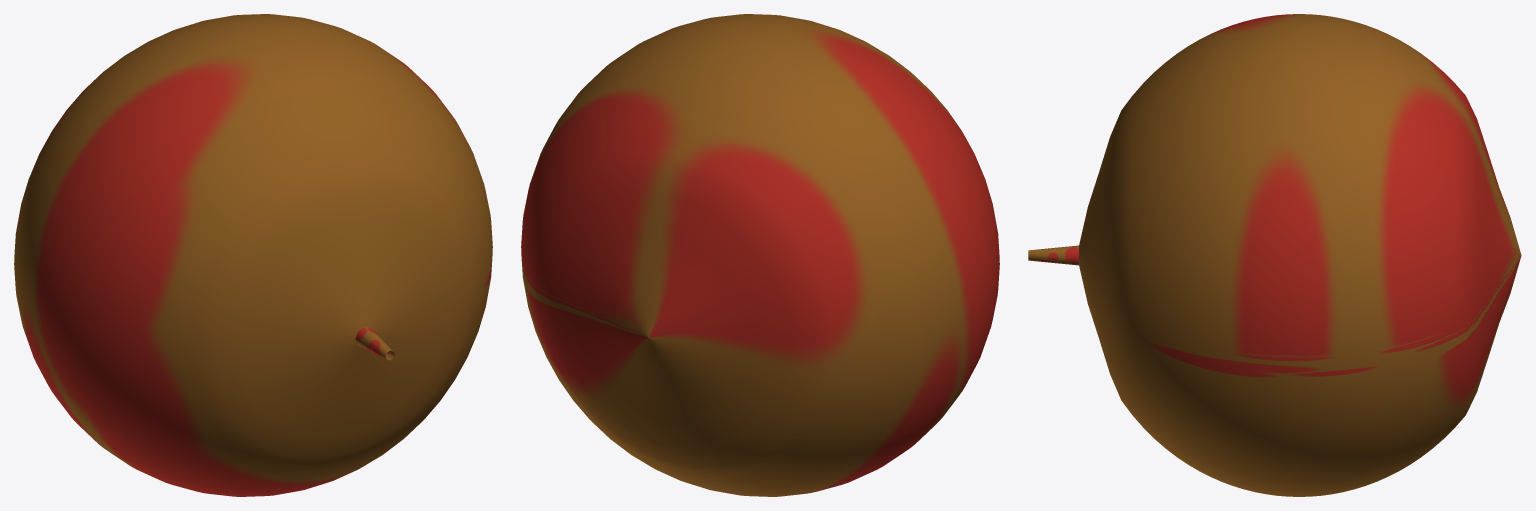
The model's file is apple_02_v2.obj.
The picture shows the model from 3 angles, left to right: view 1: azimuth 30°, elevation 25°; view 2: azimuth 150°, elevation 25°; view 3: azimuth 270°, elevation 25°; orthographic projection.
Bounding box in the file's own units: 2 × 2 × 2.04.
1 material, 1 textured.
